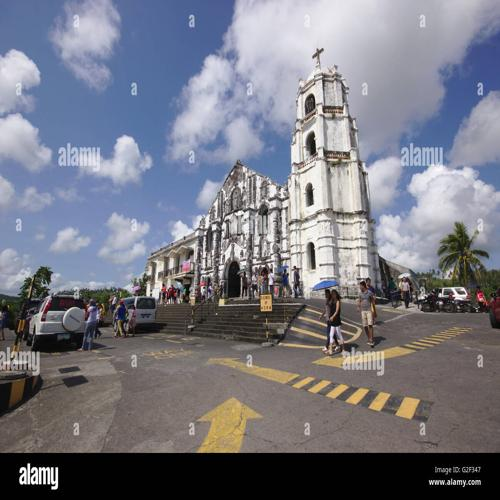Daraga Church: (177, 27, 383, 309)
